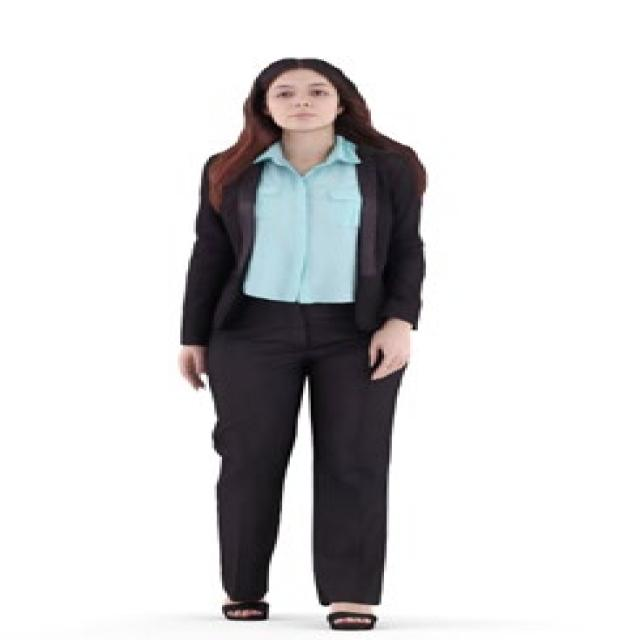standing: (171, 56, 428, 635)
